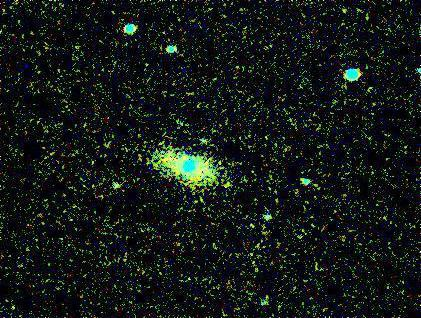star: (211, 164, 241, 194)
